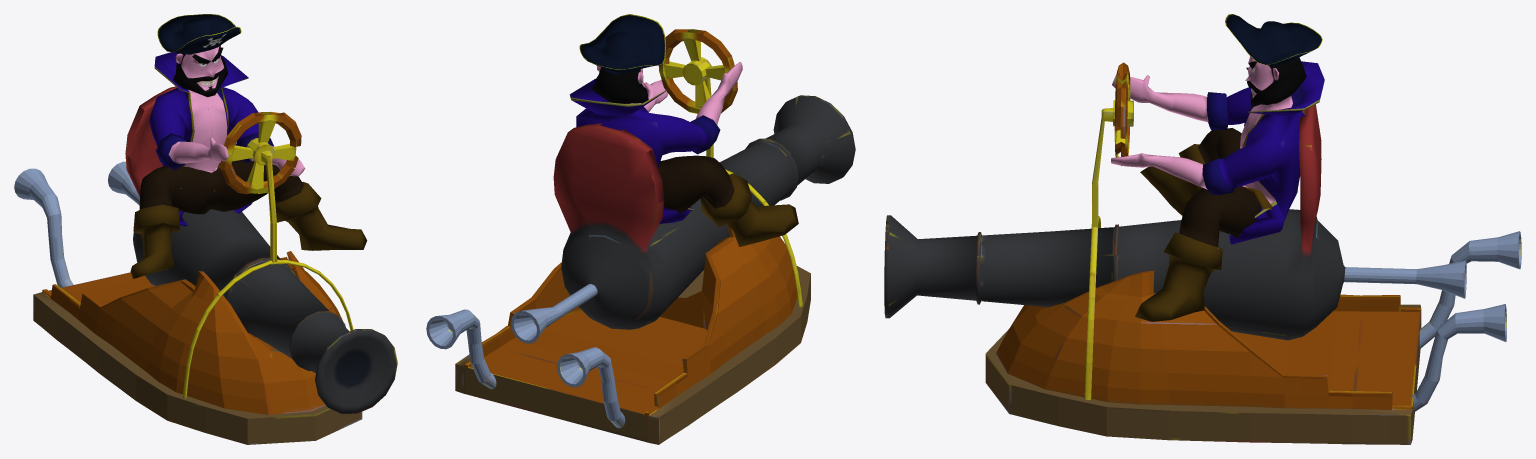
The model's file is pirataGiroDER_000553.obj.
3 renders of one model, left to right at view 1: azimuth 30°, elevation 25°; view 2: azimuth 150°, elevation 25°; view 3: azimuth 270°, elevation 25°, orthographic. The views are drawn at different scales.
Visible parts, largest first — view 1: carro_pirata, Pirata_PirataH; view 2: carro_pirata, Pirata_PirataH; view 3: carro_pirata, Pirata_PirataH.
Boxes of the visible parts, x1,y1,x2,y2 form: carro_pirata: (14, 86, 397, 444); Pirata_PirataH: (130, 14, 367, 279); carro_pirata: (426, 29, 855, 444); Pirata_PirataH: (569, 14, 798, 246); carro_pirata: (884, 62, 1521, 444); Pirata_PirataH: (1111, 14, 1324, 321).
Bounding box in the file's own units: 5.7 × 7.71 × 12.1.
2 materials, 2 textured.
